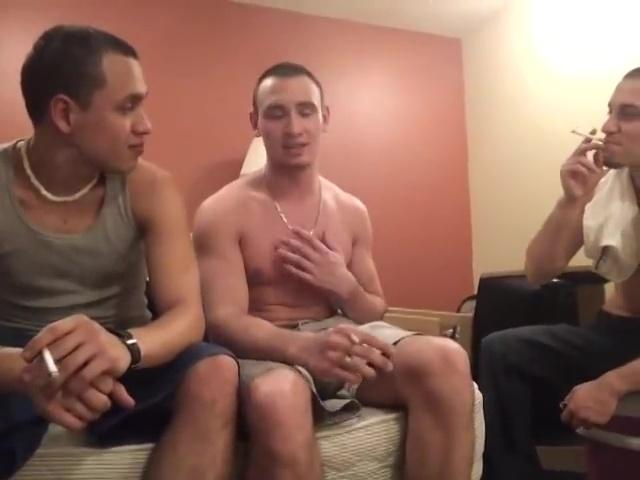cigarette: (40, 346, 65, 383), (570, 128, 610, 146)
